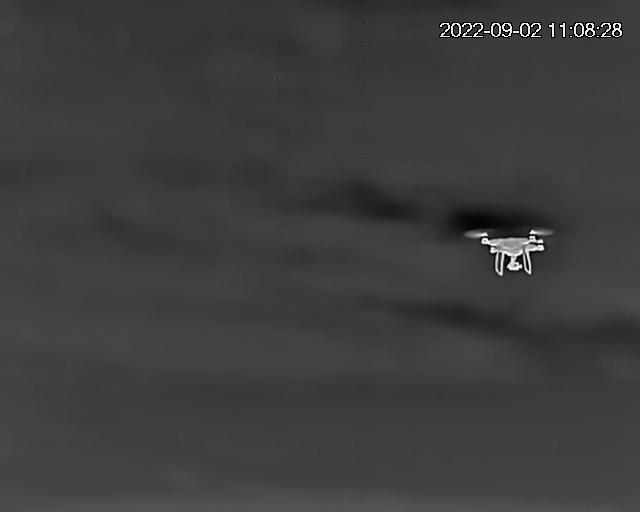DJI-Phantom: (464, 228, 556, 274)
